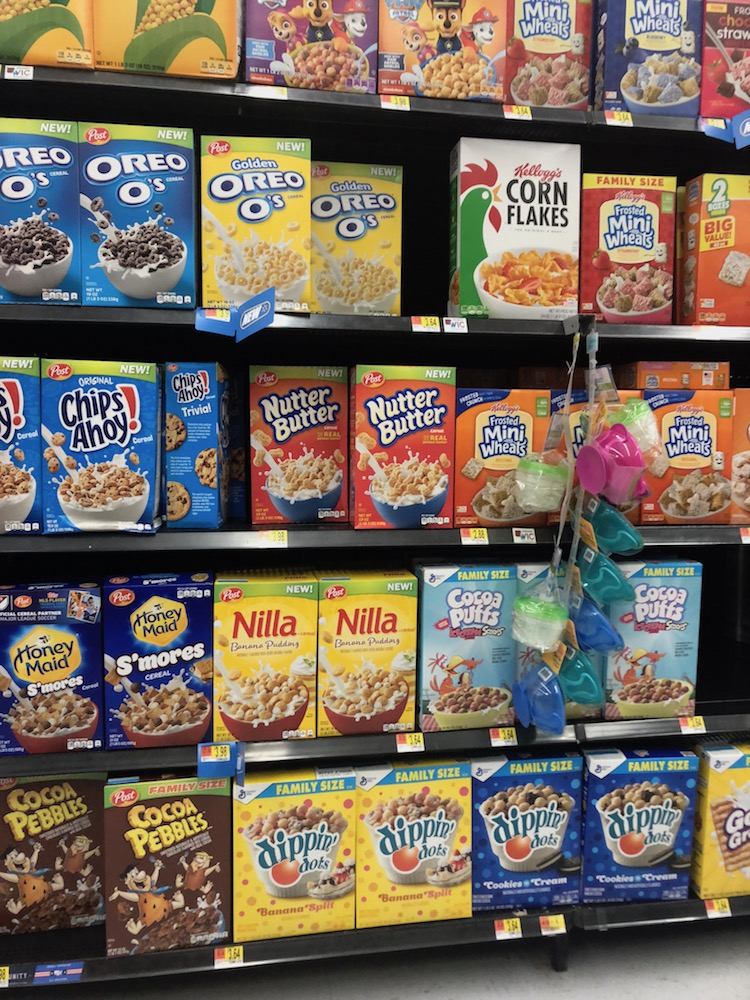Chips Ahoys-565717529: (38, 364, 162, 529)
Cocoa Pebbles-555517893: (103, 789, 232, 955), (1, 781, 104, 938)
Cocoa Puffs Ice Cream-563408546: (420, 564, 520, 730), (602, 565, 705, 713)
Dippin Dots Banana-568929376: (238, 789, 362, 939), (357, 775, 466, 917)
Dippin Dots Cookies & Cream -568929378: (465, 768, 583, 905), (583, 758, 691, 894)
Honey Maid Graham -563424385: (101, 585, 207, 732), (1, 590, 104, 741)
Mini Wheats Straw-567084832: (579, 171, 677, 322)
Nilla -568301014: (309, 572, 428, 731), (208, 590, 321, 730)
Nutter Butter-565717511: (353, 375, 462, 528), (249, 370, 353, 529)
Oreo Golden-568301011: (199, 134, 314, 309), (305, 166, 404, 312)
Oreo-563424384: (70, 127, 191, 305), (1, 136, 80, 298)
